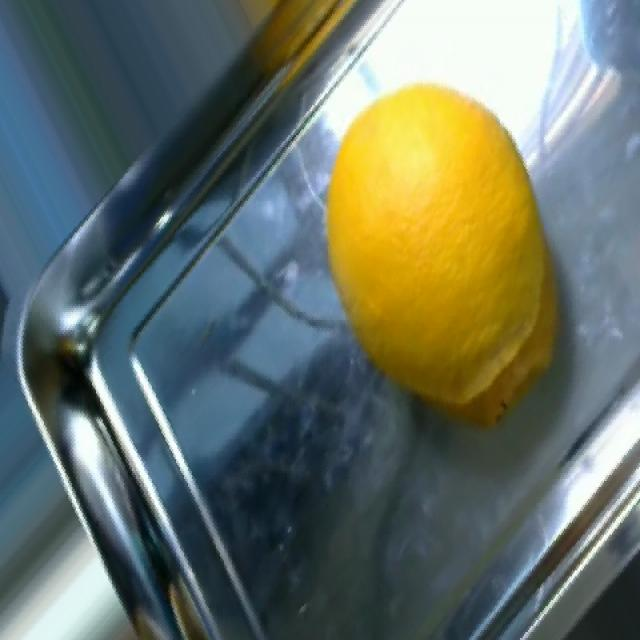Fruit: (314, 54, 570, 441)
